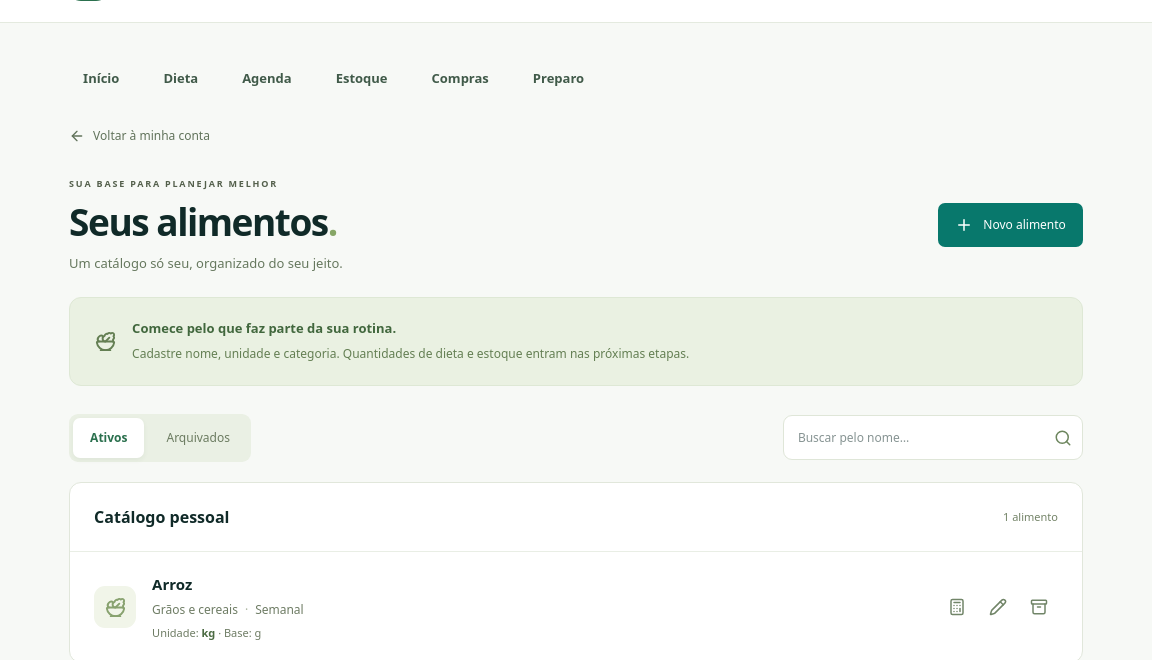
Test: busca pelo nome, informa resultado vazio e permite limpar
Expected: the heading "Arroz" is shown, [152,574,192,594]
Type "banana" into the field named "Buscar alimento" at [914, 438], box [784,417,1043,459]
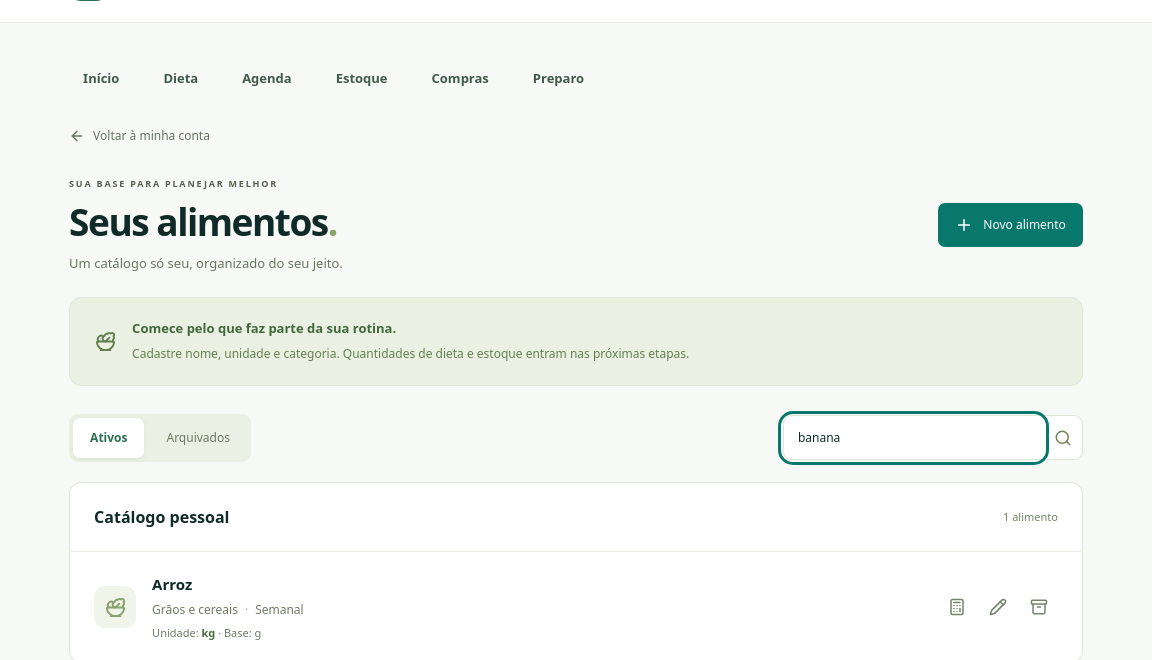
Click the button named "Buscar" at [1063, 438], box [1043,416,1082,459]
(page scrolled)
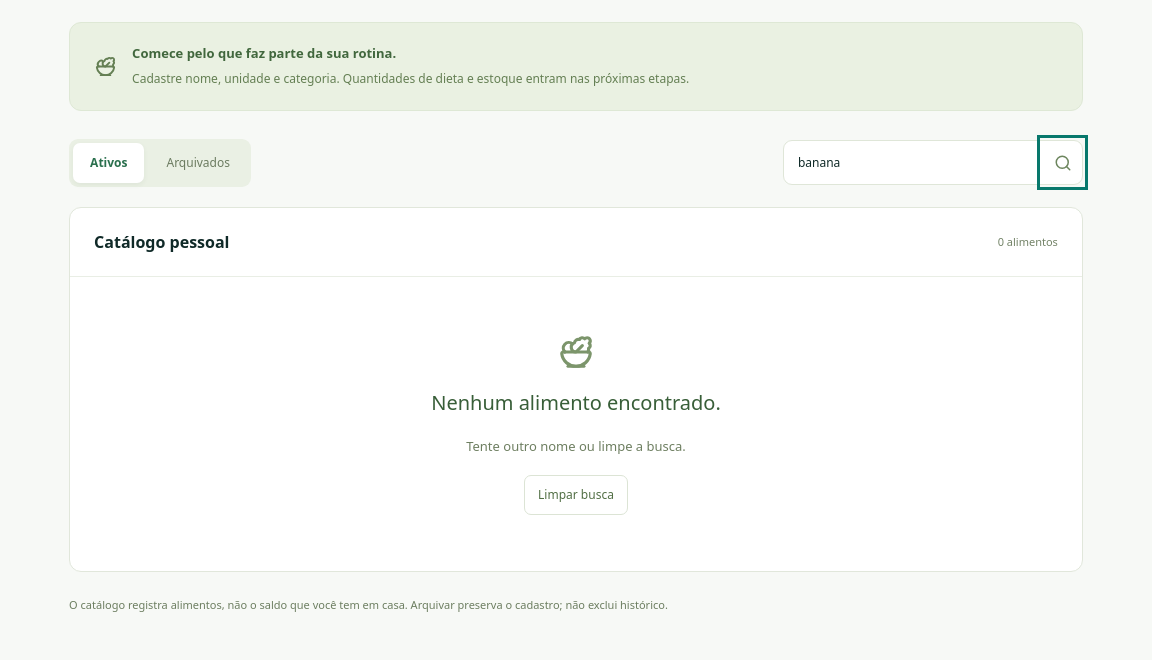
Expected: the heading "Nenhum alimento encontrado." is shown, [431,388,721,418]
Click the button "Limpar busca" at [576, 495], box [524,475,628,515]
(page scrolled)
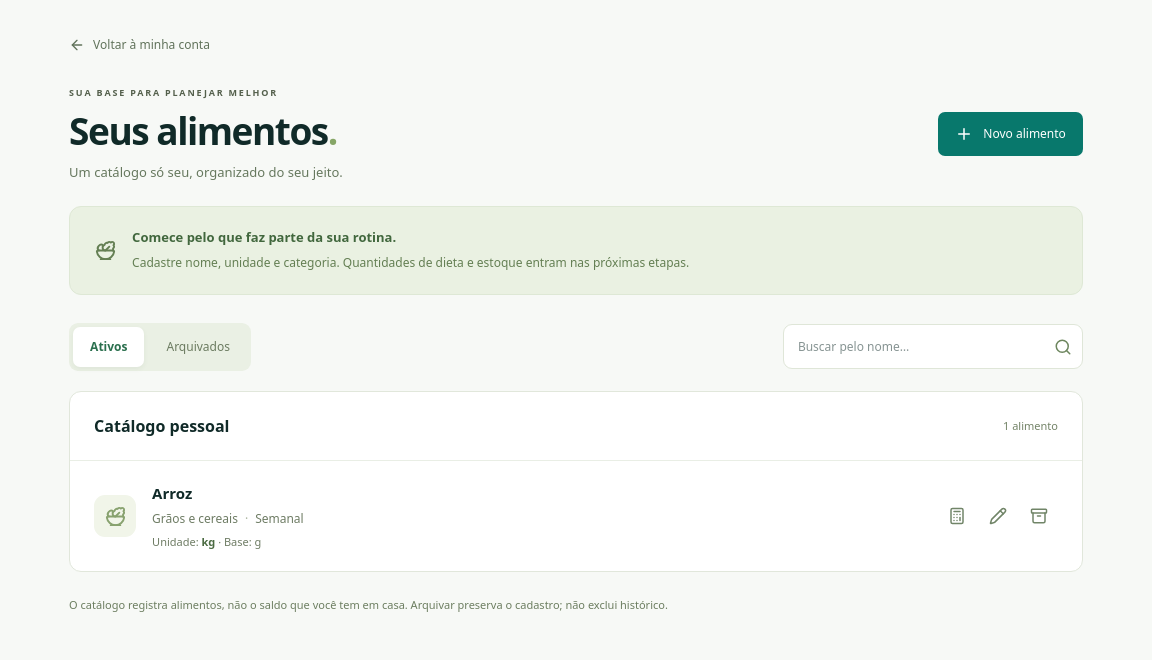
Expected: the heading "Arroz" is shown, [152,483,192,503]
